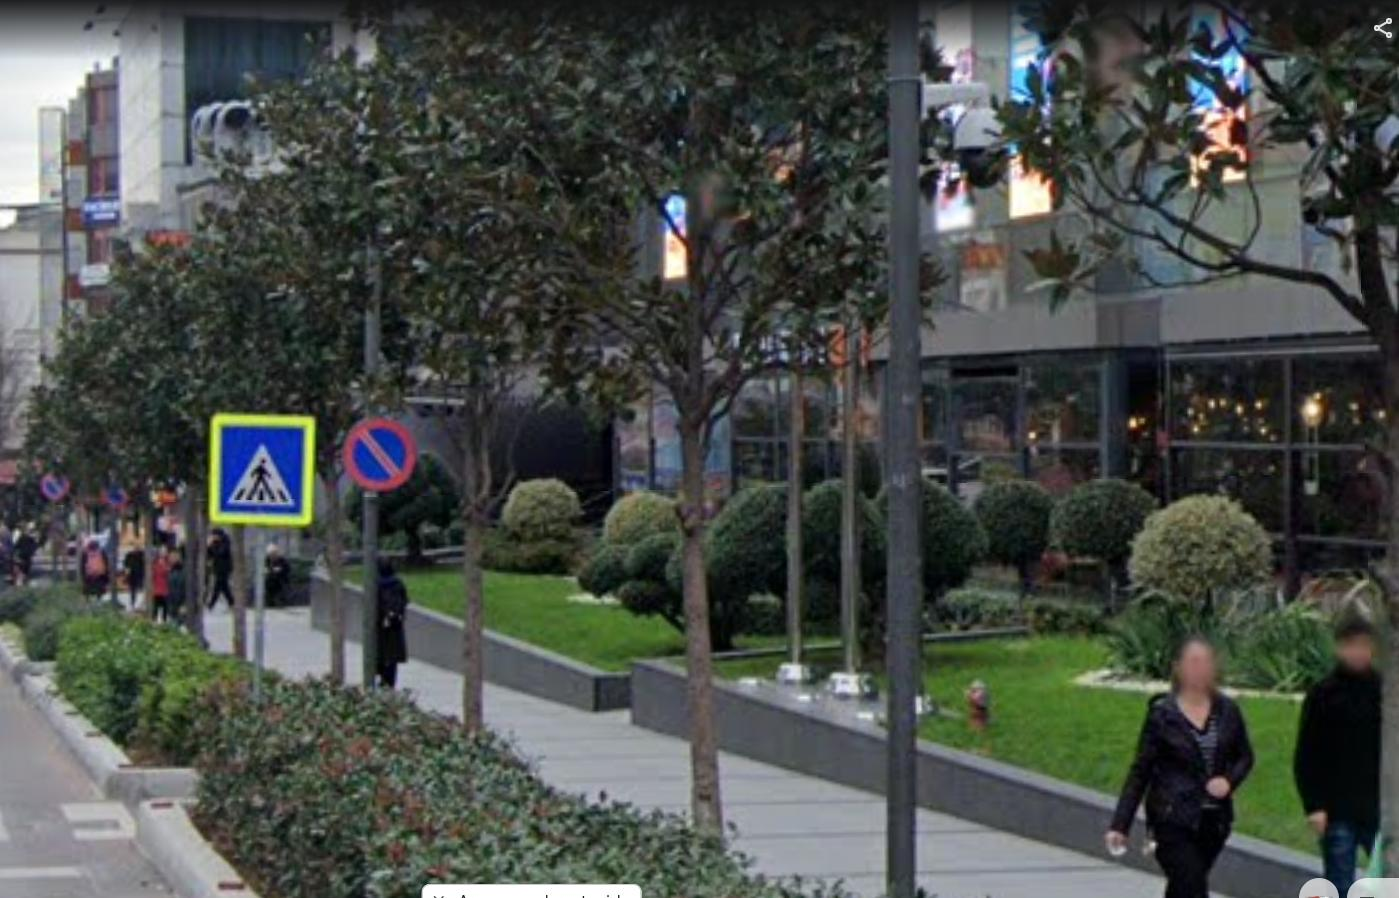stop: (347, 419, 415, 490)
